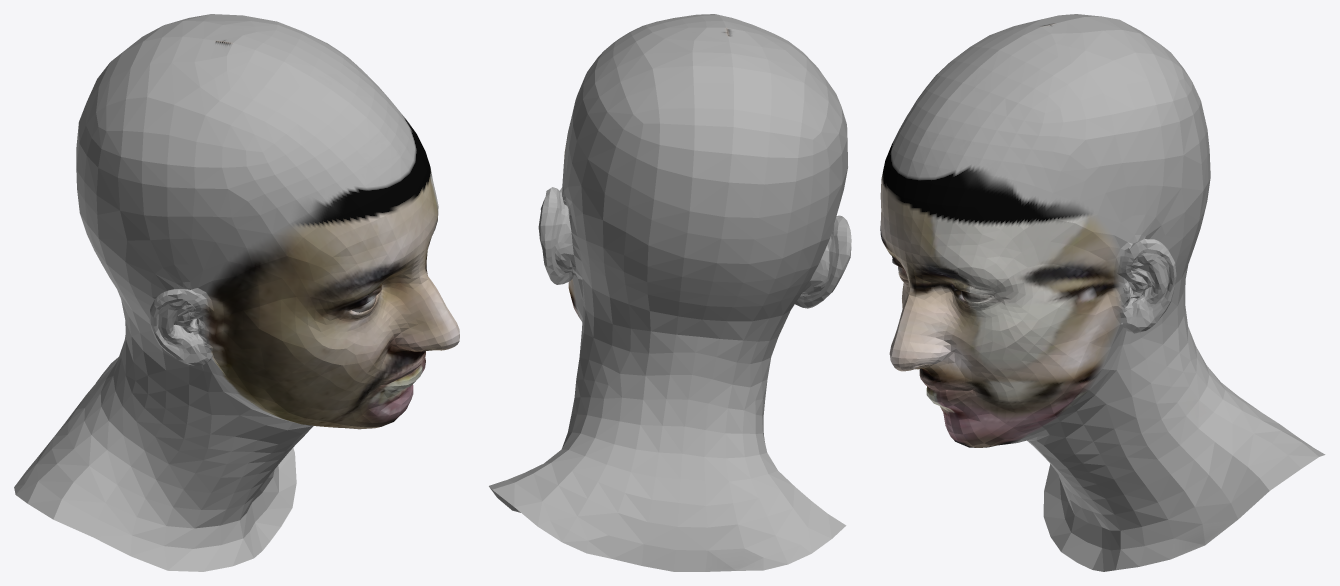
The model's file is ezgif-frame-049.obj.
The picture shows the model from 3 angles, left to right: view 1: azimuth 30°, elevation 25°; view 2: azimuth 150°, elevation 25°; view 3: azimuth 270°, elevation 25°; orthographic projection. The views are drawn at different scales.
Size of the model in its own units: 0.2062 by 0.3223 by 0.2531.
1 material, 1 textured.
